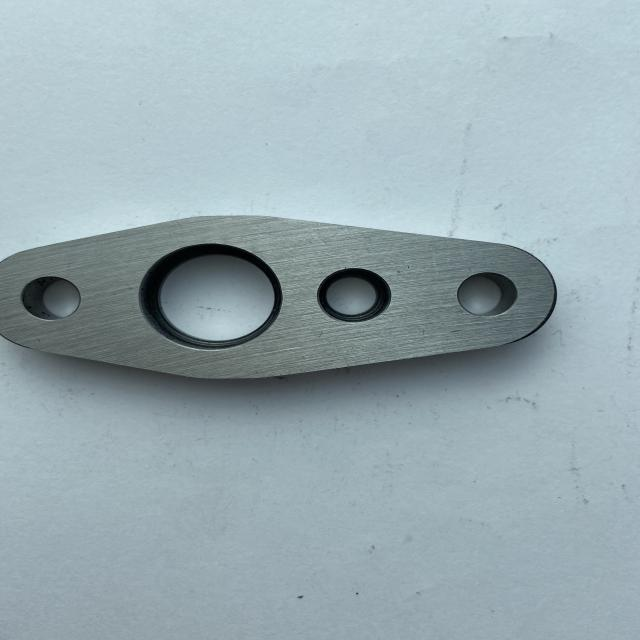chap: (446, 328, 463, 334), (2, 290, 11, 295)
